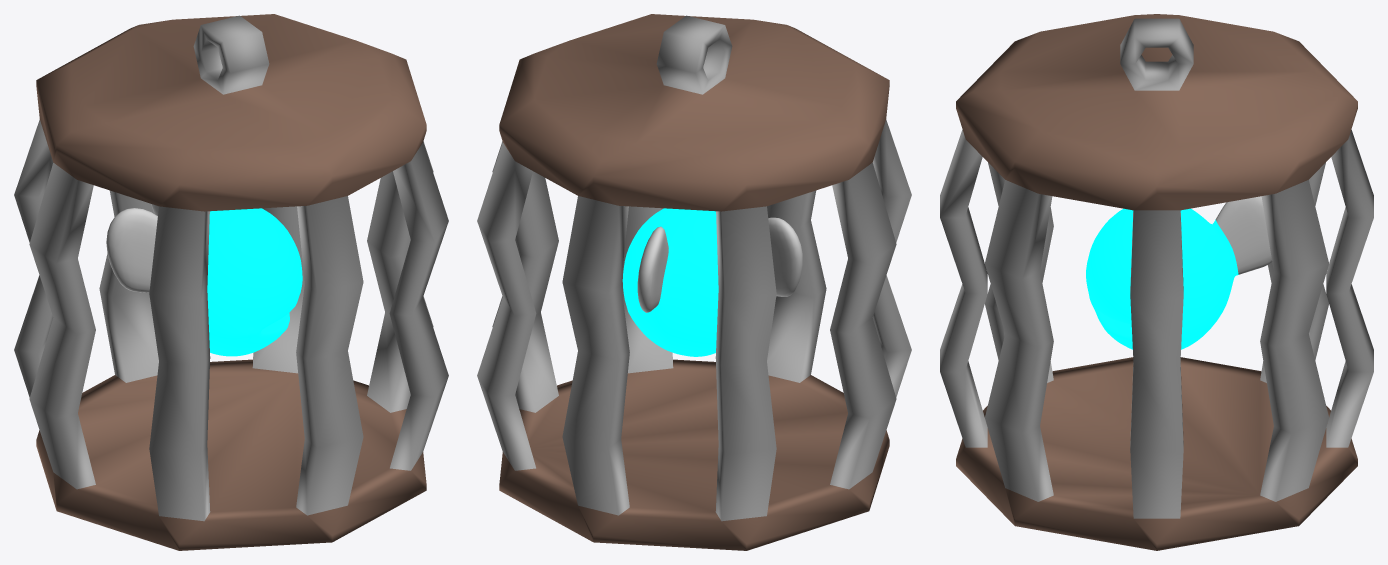
The model's file is Cage.fbx.
3 views of the same model, side by side, from view 1: azimuth 30°, elevation 25°; view 2: azimuth 150°, elevation 25°; view 3: azimuth 270°, elevation 25° (orthographic).
Visible parts, largest first — view 1: cage; view 2: cage; view 3: cage.
Part boxes in pixels (x1=…): cage: x1=14, y1=14, x2=448, y2=550; cage: x1=477, y1=14, x2=911, y2=550; cage: x1=940, y1=14, x2=1373, y2=550.
Size of the model in its own units: 540 by 601 by 540.
